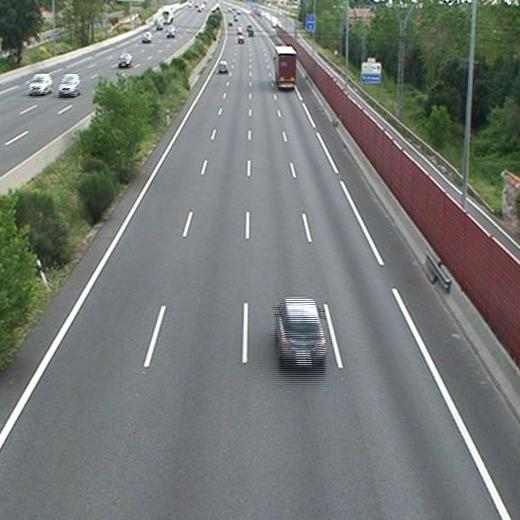car: (276, 298, 326, 363), (218, 61, 229, 73)
truck: (275, 46, 297, 87)
